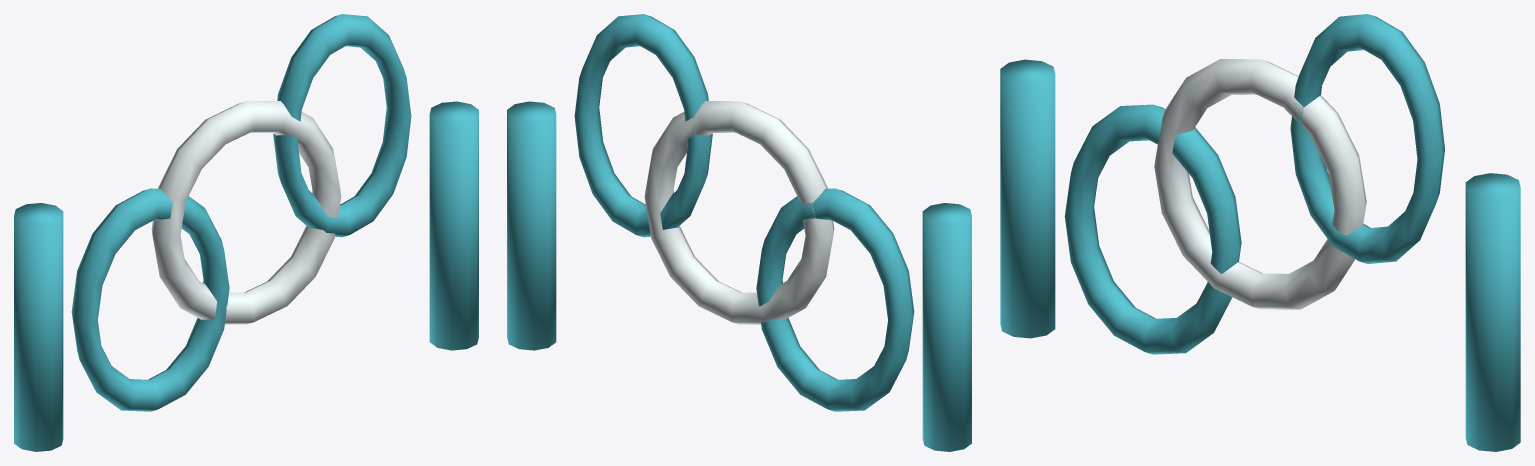
File: wall-wind.glb
3 renders of one model, left to right at view 1: azimuth 30°, elevation 25°; view 2: azimuth 150°, elevation 25°; view 3: azimuth 330°, elevation 25°, orthographic. The views are drawn at different scales.
Visible parts, largest first — view 1: mesh_wall_wind_body, mesh_wall_wind_accent; view 2: mesh_wall_wind_body, mesh_wall_wind_accent; view 3: mesh_wall_wind_body, mesh_wall_wind_accent.
Part boxes in pixels (left/top/right/bottom): mesh_wall_wind_body: left=14, top=14, right=478, bottom=451; mesh_wall_wind_accent: left=151, top=101, right=341, bottom=324; mesh_wall_wind_body: left=507, top=14, right=971, bottom=451; mesh_wall_wind_accent: left=644, top=101, right=834, bottom=324; mesh_wall_wind_body: left=1000, top=14, right=1520, bottom=451; mesh_wall_wind_accent: left=1154, top=59, right=1366, bottom=309.
Size of the model in its own units: 1.05 by 0.775 by 0.1.
